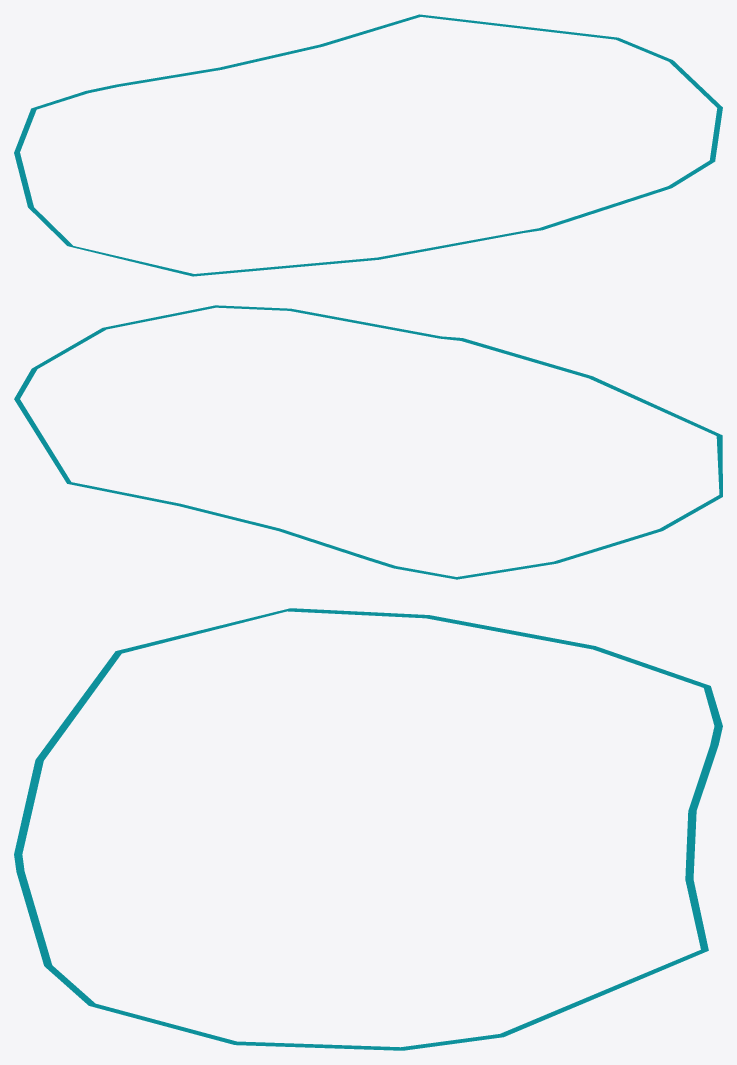
Rendered from moat.fbx.
The picture shows the model from 3 angles, top to bottom: view 1: azimuth 30°, elevation 25°; view 2: azimuth 150°, elevation 25°; view 3: azimuth 270°, elevation 25°; orthographic projection. The views are drawn at different scales.
Visible parts, largest first — view 1: moat; view 2: moat; view 3: moat.
Part boxes in pixels (left/top/right/bottom): moat: left=14, top=14, right=722, bottom=276; moat: left=14, top=305, right=722, bottom=579; moat: left=14, top=608, right=722, bottom=1050.
Bounding box in the file's own units: 136 × 1 × 92.58.
